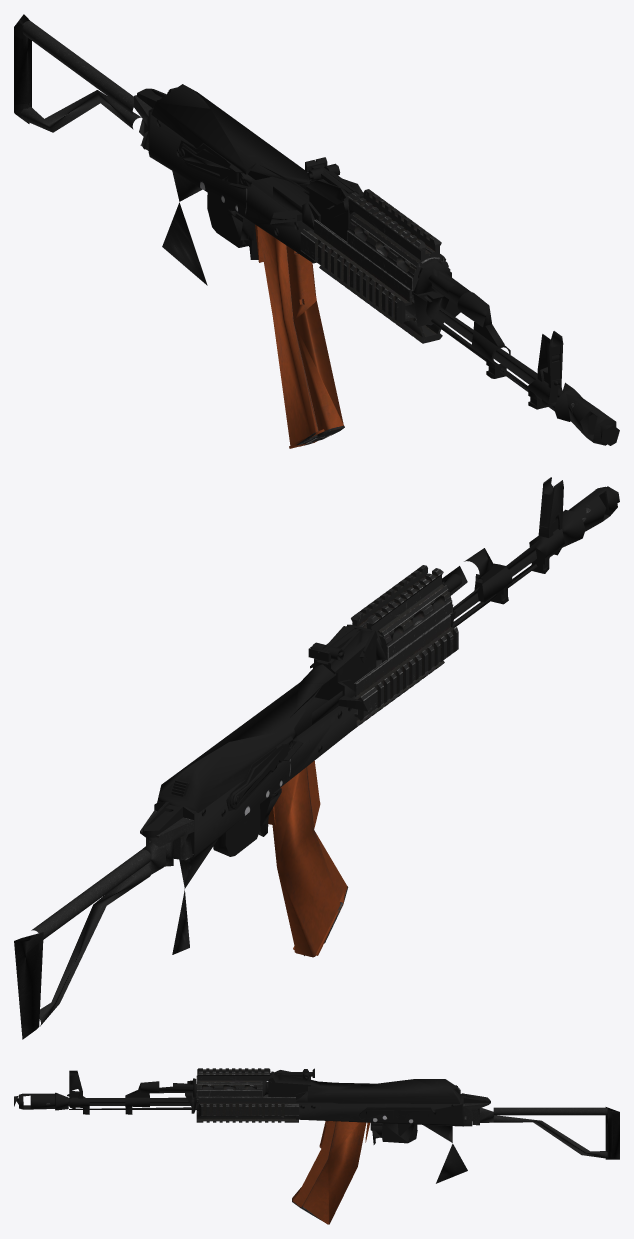
File: ak74_tatica_leve.glb
The picture shows the model from 3 angles, top to bottom: view 1: azimuth 30°, elevation 25°; view 2: azimuth 150°, elevation 25°; view 3: azimuth 270°, elevation 25°; orthographic projection. The views are drawn at different scales.
Parts seen in each view (by area): view 1: Material.008, M_tactical_set2, Material.012, M_stock2; view 2: Material.008, M_tactical_set2, Material.012, M_stock2; view 3: Material.008, M_tactical_set2, Material.012, M_stock2.
Part boxes in pixels (x1,y1,x2,y2): Material.008: (136,84,619,445); M_tactical_set2: (162,171,450,343); Material.012: (255,224,344,448); M_stock2: (14,14,152,150); Material.008: (142,477,619,859); M_tactical_set2: (172,565,458,954); Material.012: (268,761,348,957); M_stock2: (14,810,194,1039); Material.008: (14,1068,490,1144); M_tactical_set2: (196,1068,467,1183); Material.012: (292,1121,369,1224); M_stock2: (463,1103,619,1159).
Bounding box in the file's own units: 0.0707 × 0.2617 × 0.9421.
Materials: 4 (4 with a texture image).
